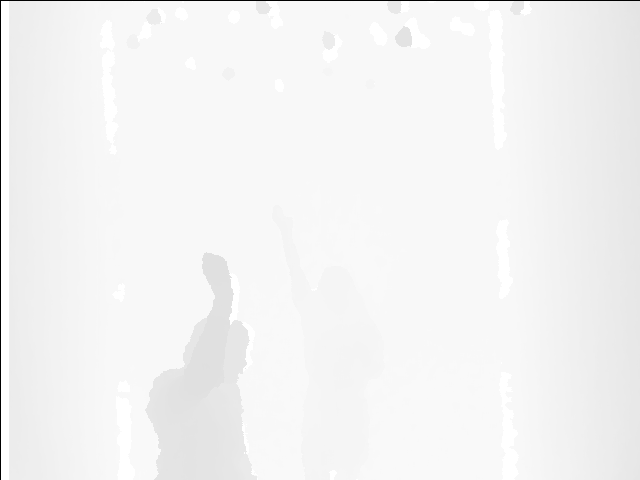hand: (204, 250, 234, 299), (266, 202, 296, 241)
